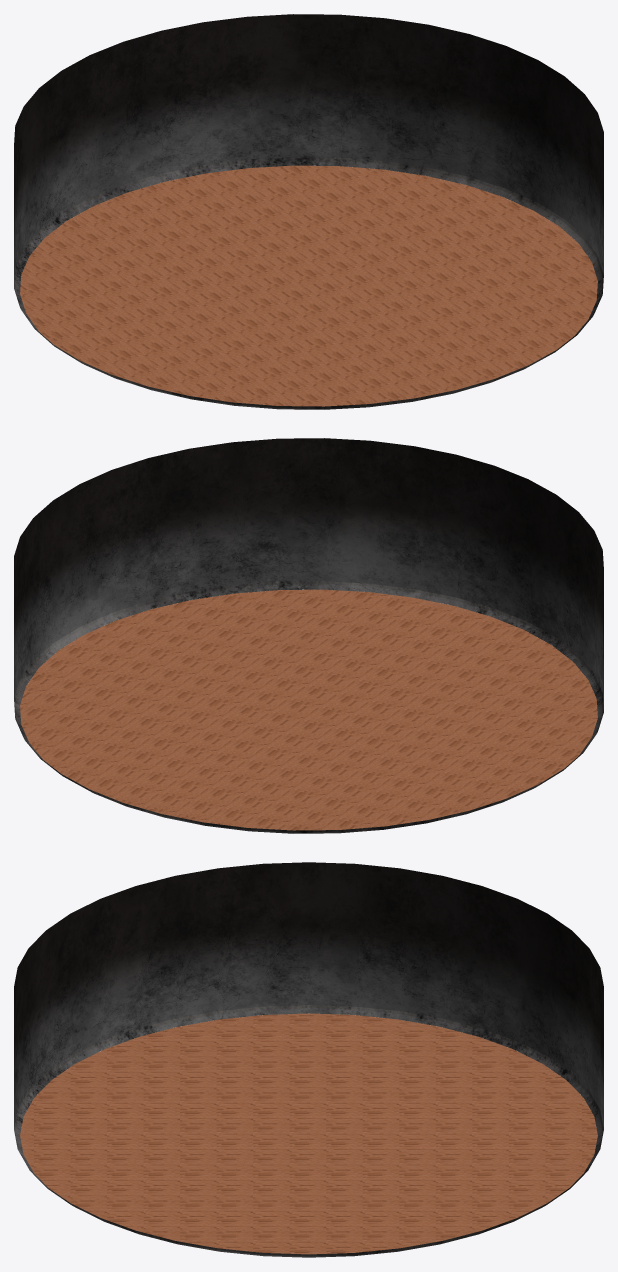
The model's file is indoor2.glb.
The picture shows the model from 3 angles, top to bottom: view 1: azimuth 30°, elevation 25°; view 2: azimuth 150°, elevation 25°; view 3: azimuth 270°, elevation 25°; orthographic projection.
Visible parts, largest first — view 1: Cylinder.002, Cylinder.003, Cylinder.001; view 2: Cylinder.002, Cylinder.003, Cylinder.001; view 3: Cylinder.002, Cylinder.003, Cylinder.001.
Boxes of the visible parts, left/top/right/bottom form: Cylinder.002: left=20, top=165, right=597, bottom=409; Cylinder.003: left=14, top=14, right=603, bottom=285; Cylinder.001: left=14, top=157, right=603, bottom=409; Cylinder.002: left=20, top=589, right=597, bottom=833; Cylinder.003: left=14, top=438, right=603, bottom=709; Cylinder.001: left=14, top=581, right=603, bottom=833; Cylinder.002: left=20, top=1013, right=597, bottom=1254; Cylinder.003: left=14, top=862, right=603, bottom=1128; Cylinder.001: left=14, top=1005, right=603, bottom=1257.
Size of the model in its own units: 25.49 by 7.09 by 25.49.
Materials: 3 (3 with a texture image).
